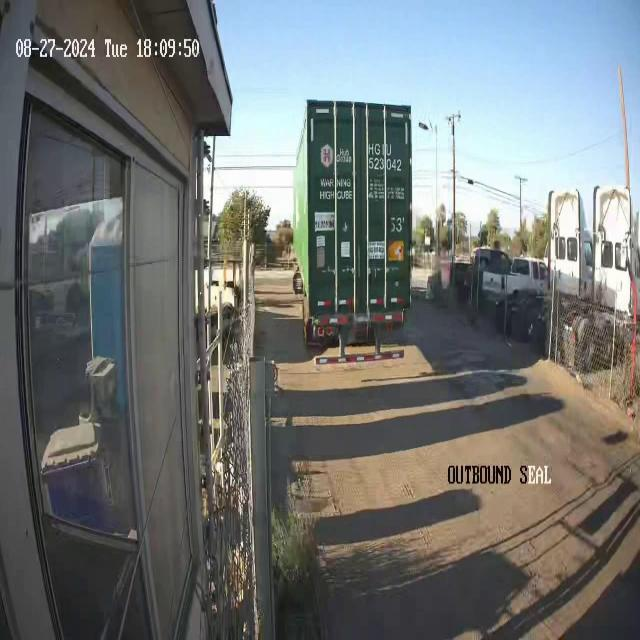TRUCK_OUT: (292, 98, 413, 344)
